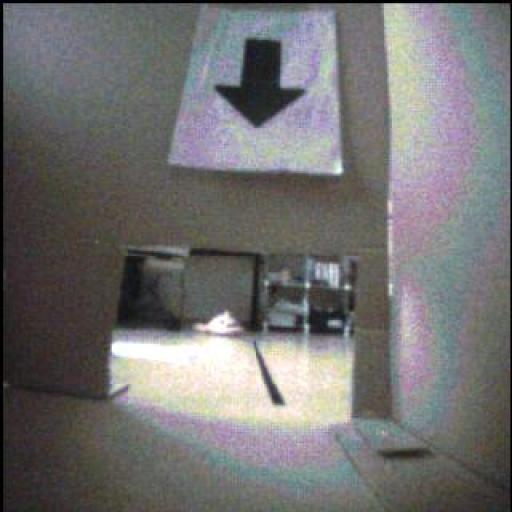arrow: (217, 40, 307, 128)
